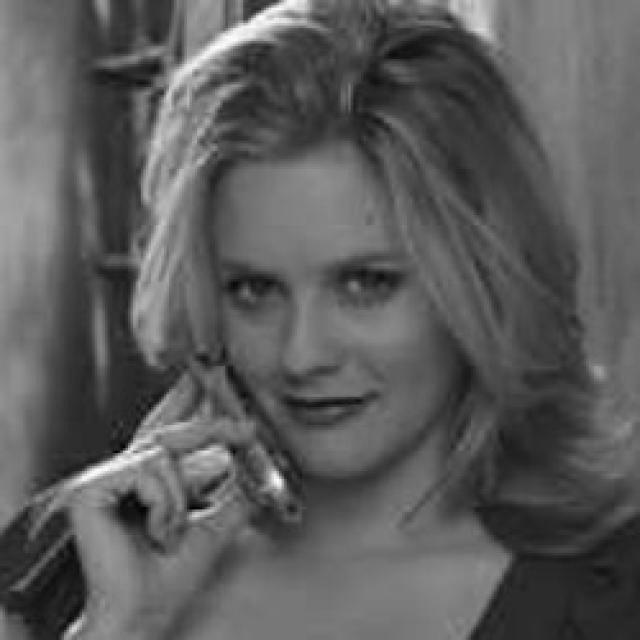real: (210, 150, 454, 482), (226, 261, 419, 315)
